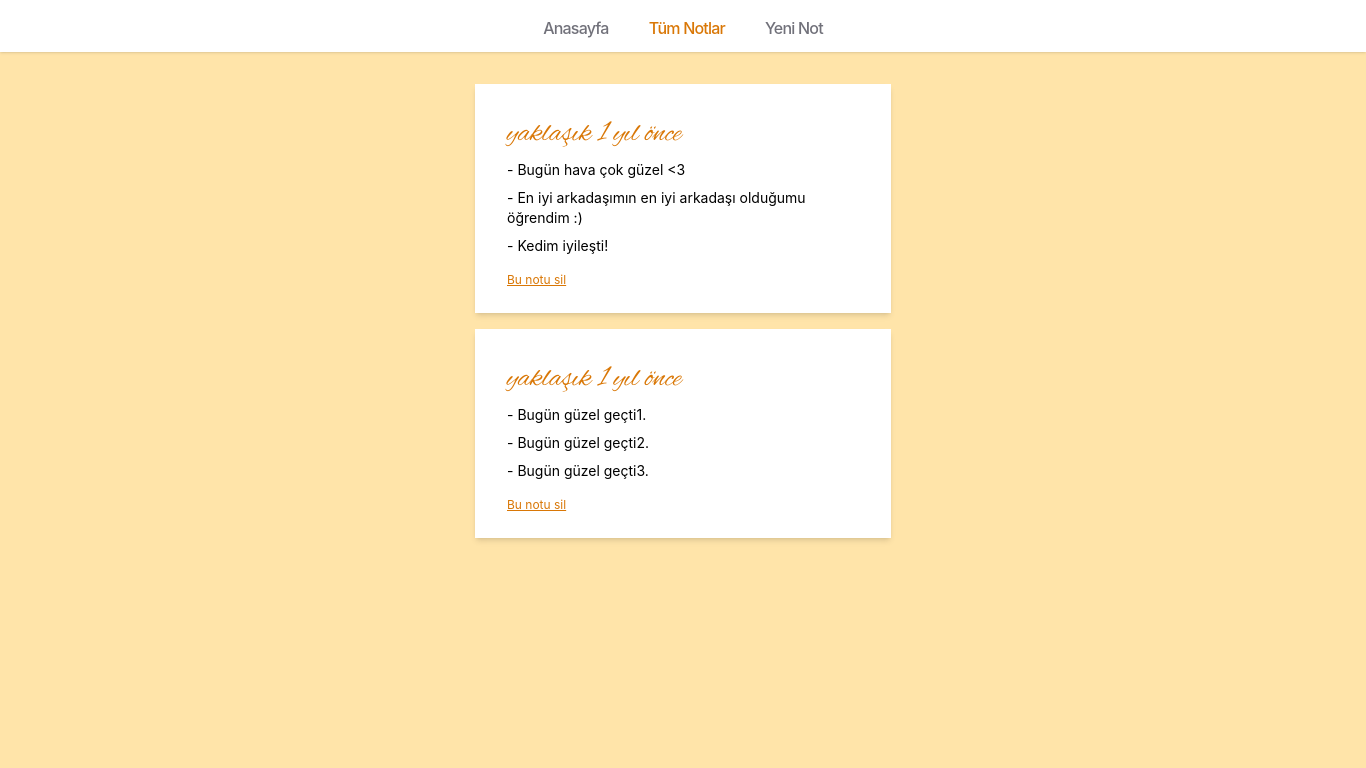
Scenario: Not silindikten sonra LocalStorageı güncelliyor
The image size is (1366, 768).
Click the link "Tüm Notlar": point(687, 28) 649,18 -> 725,38
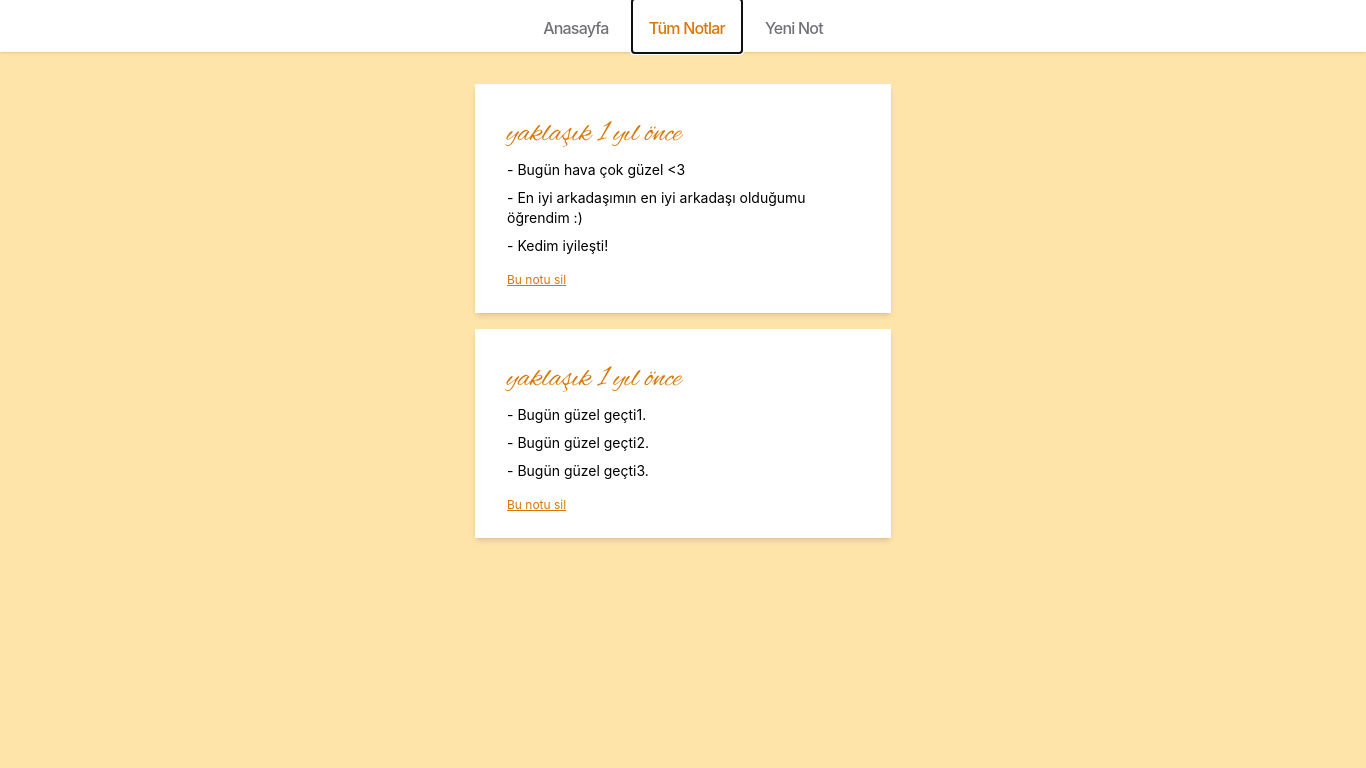
Click the button "Bu notu sil" below "Bugün güzel geçti3.": point(537, 505) 507,497 -> 566,513
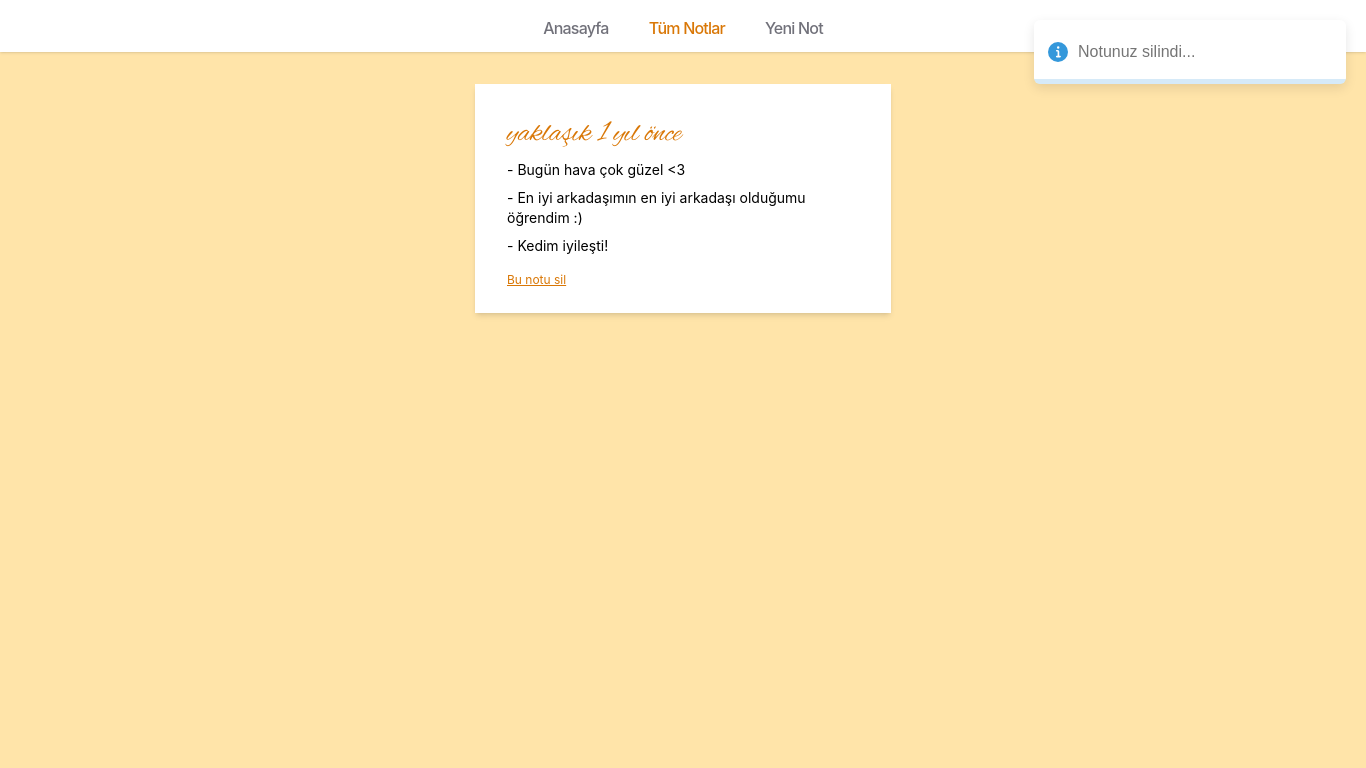
Expected: the text "Notunuz silindi..." is shown, 1078,43 -> 1195,60
